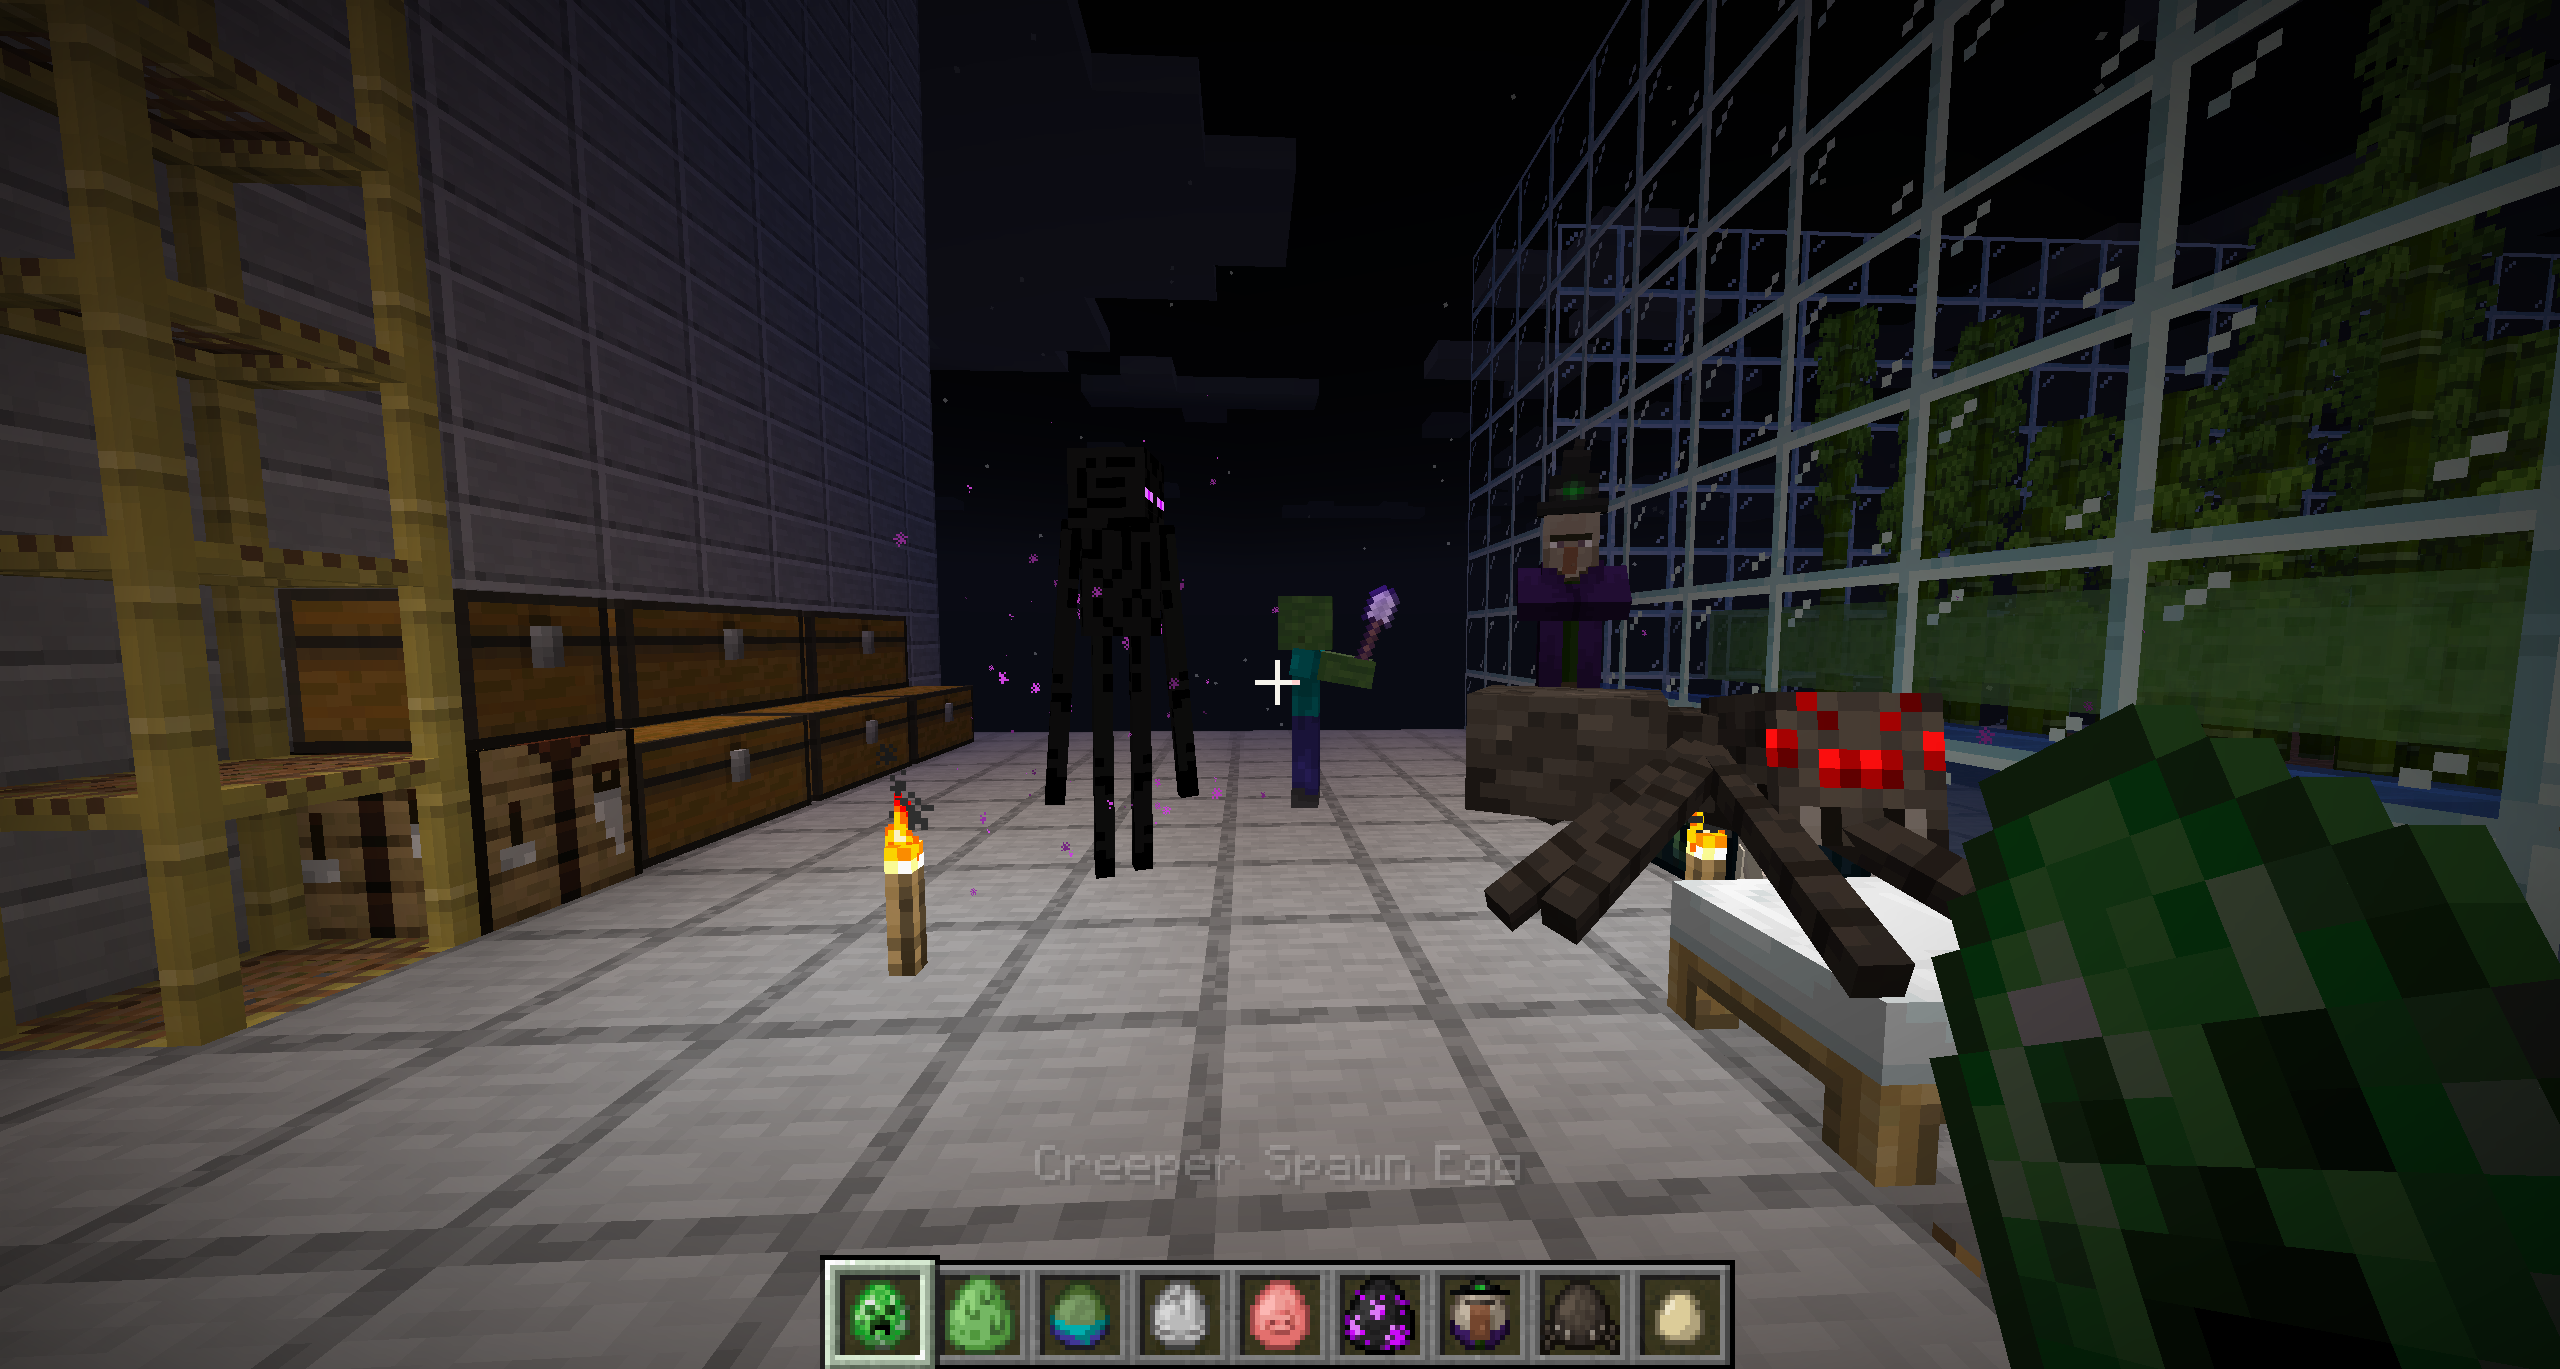araignees: (1465, 682, 1959, 954)
endermens: (1055, 438, 1200, 882)
sorcieres: (1517, 465, 1629, 684)
zombies: (1280, 584, 1348, 826)
